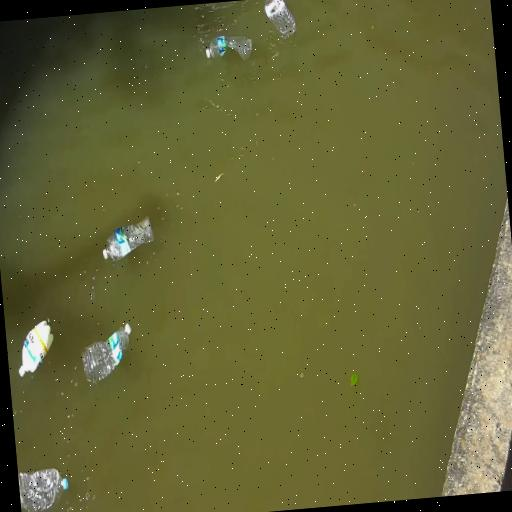plastic: (82, 323, 131, 383), (103, 215, 153, 263), (18, 469, 68, 511), (19, 321, 53, 377), (206, 36, 252, 59)
